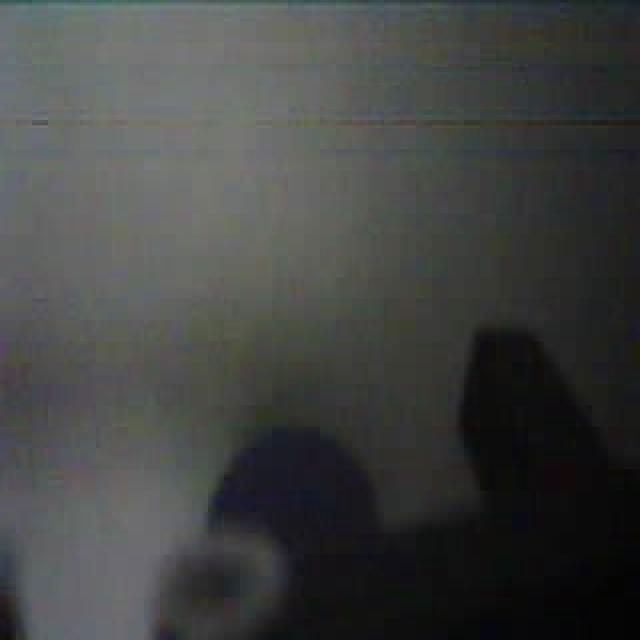blue_ball: (198, 416, 399, 598)
